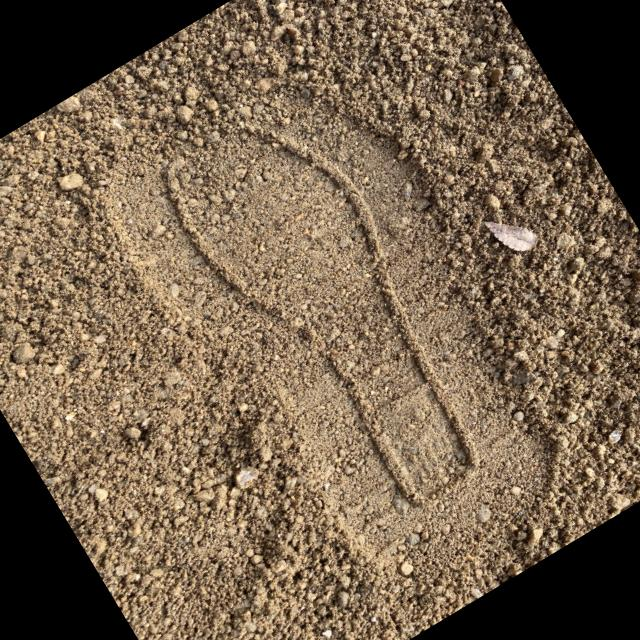human_footprint: (43, 84, 617, 566)
